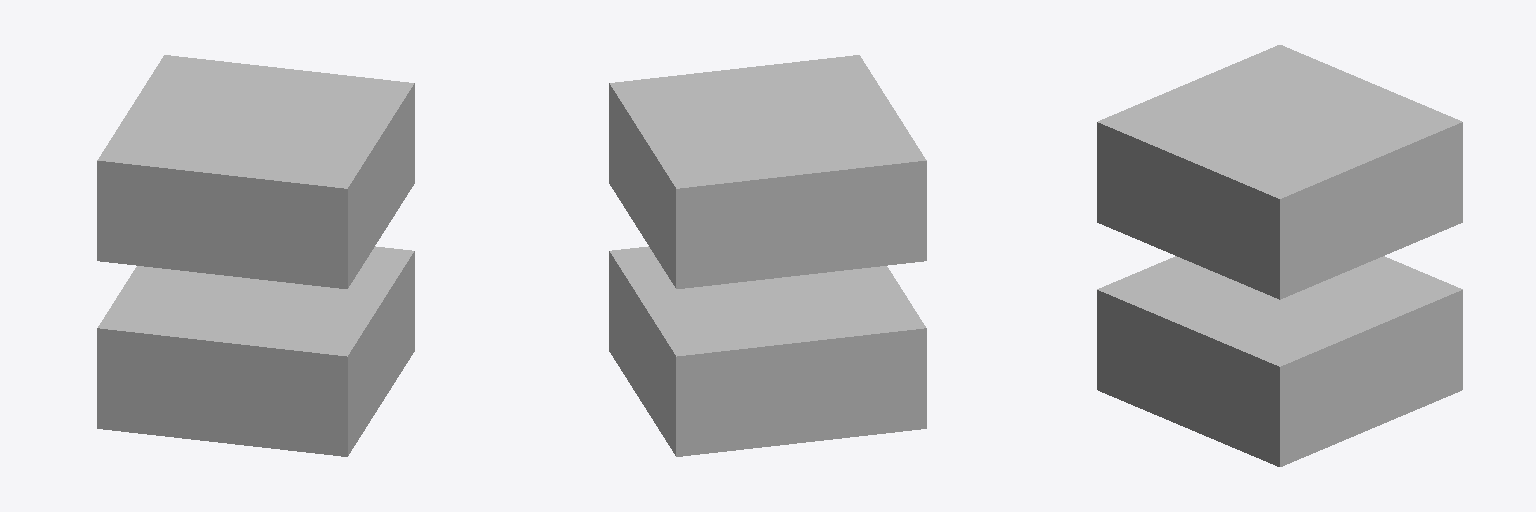
File: generator_t2_fuel.obj
The picture shows the model from 3 angles: view 1: azimuth 30°, elevation 25°; view 2: azimuth 150°, elevation 25°; view 3: azimuth 270°, elevation 25°; orthographic projection.
Visible parts, largest first — view 1: higherFuel, lowerFuel; view 2: higherFuel, lowerFuel; view 3: higherFuel, lowerFuel.
Boxes of the visible parts, <box> form: higherFuel: <box>97,55,414,288</box>; lowerFuel: <box>97,246,414,456</box>; higherFuel: <box>609,55,926,288</box>; lowerFuel: <box>609,246,926,456</box>; higherFuel: <box>1097,45,1462,299</box>; lowerFuel: <box>1097,256,1462,466</box>.
Size of the model in its own units: 2.47 by 2 by 2.47.